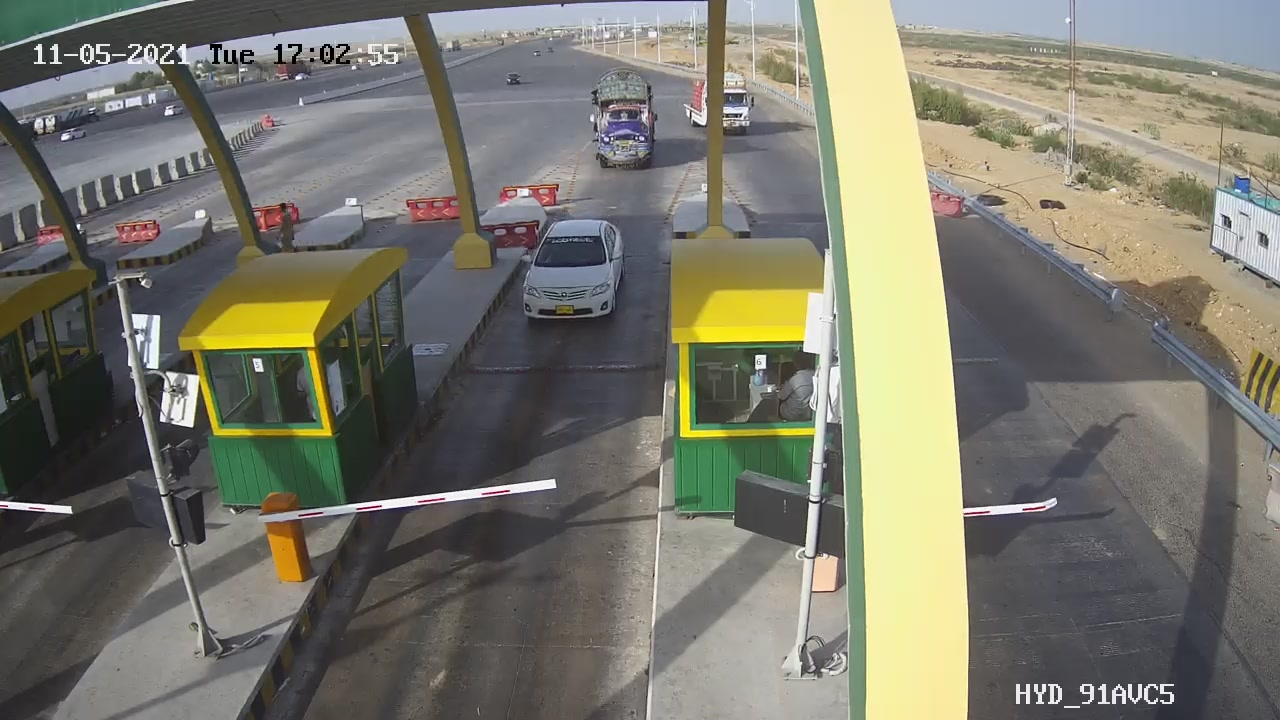F1: (503, 204, 642, 338)
